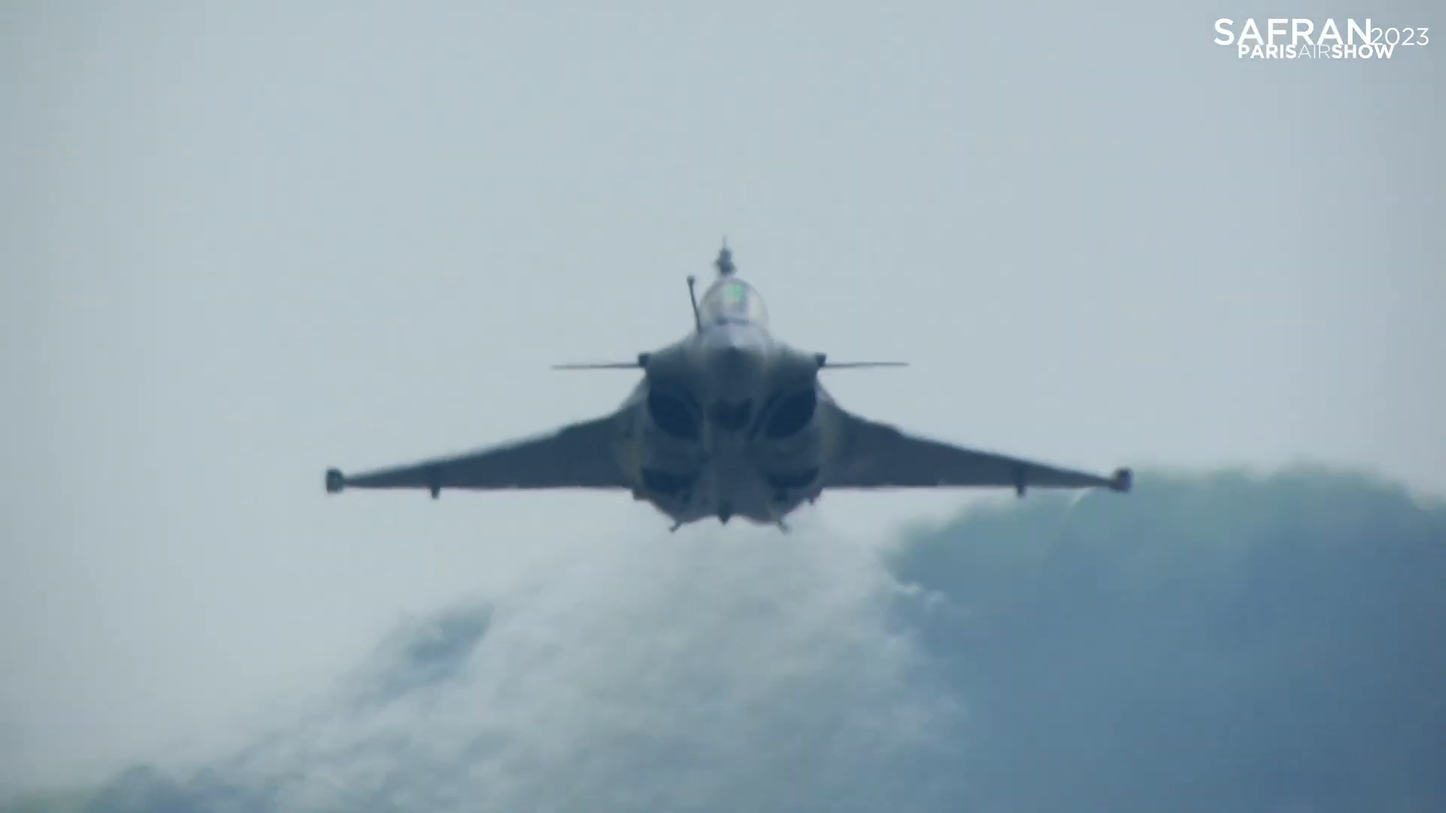Rafale: (326, 233, 1133, 535)
